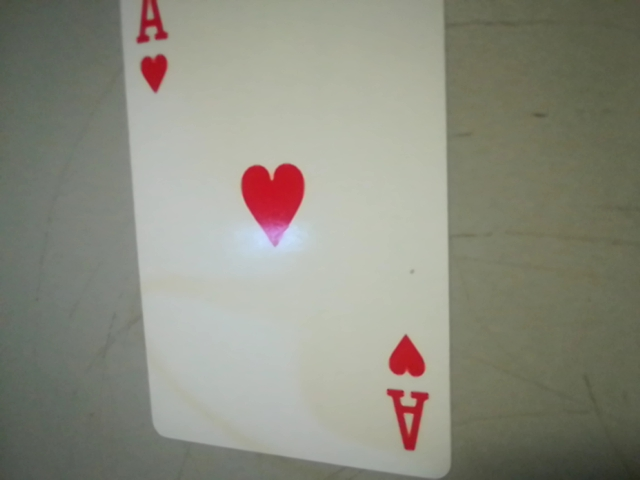hx a: (375, 326, 443, 466)
